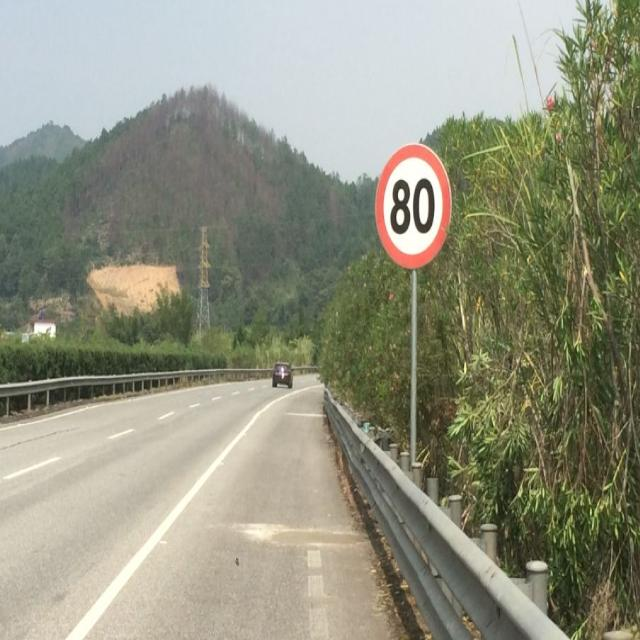speed limit 80: (374, 143, 452, 271)
